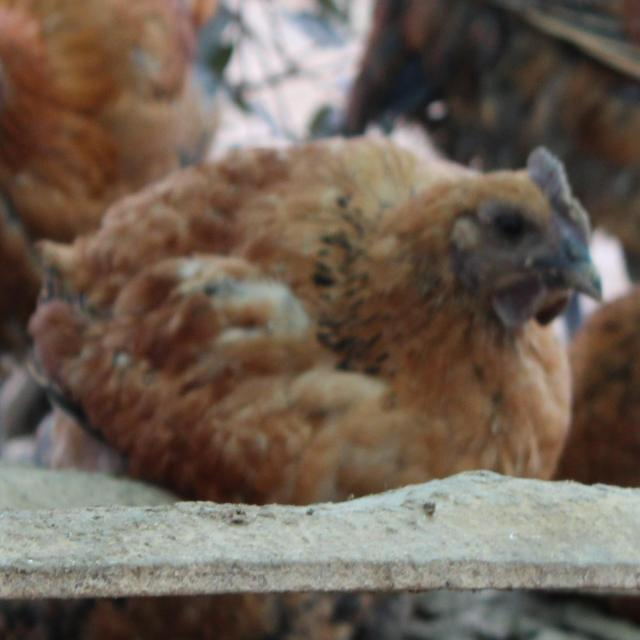hen: (14, 114, 619, 529)
